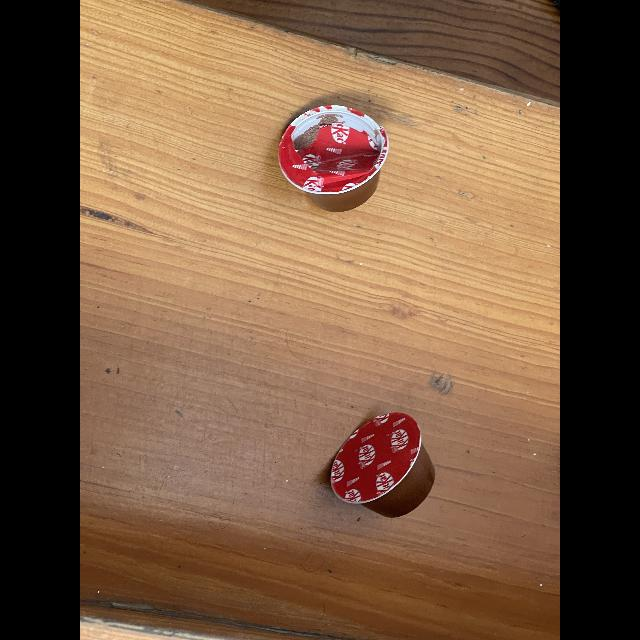damaged_capsule: (274, 96, 396, 214)
intact_capsule: (324, 399, 438, 528)
